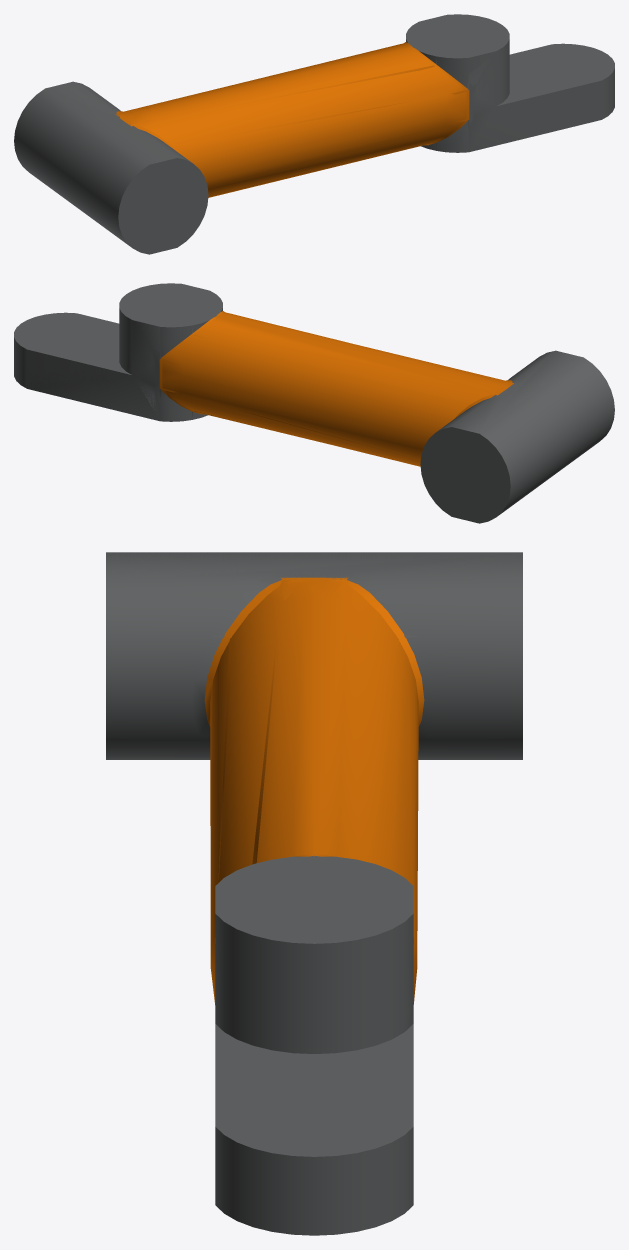
The picture shows the model from 3 angles, top to bottom: view 1: azimuth 30°, elevation 25°; view 2: azimuth 150°, elevation 25°; view 3: azimuth 270°, elevation 25°; orthographic projection. The views are drawn at different scales.
Parts seen in each view (by area): view 1: j2_LOD0, j2_col; view 2: j2_LOD0, j2_col; view 3: j2_LOD0, j2_col.
Boxes of the visible parts, bbox=[...] form: j2_LOD0: bbox=[14, 14, 614, 254]; j2_col: bbox=[47, 15, 614, 253]; j2_LOD0: bbox=[14, 283, 614, 523]; j2_col: bbox=[15, 286, 582, 523]; j2_LOD0: bbox=[106, 552, 522, 1235]; j2_col: bbox=[106, 552, 522, 1156].
Size of what is drawn, in the model's own units: 72.05 by 12 by 24.
